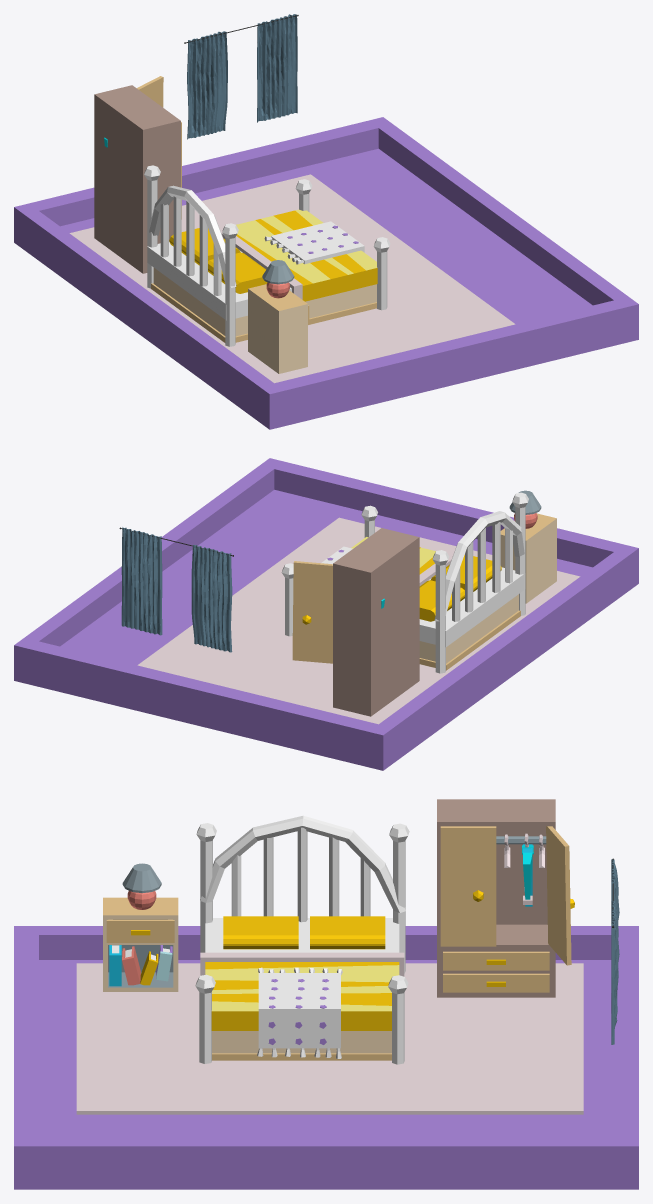
Rendered from bedroom.glb.
The picture shows the model from 3 angles, top to bottom: view 1: azimuth 30°, elevation 25°; view 2: azimuth 150°, elevation 25°; view 3: azimuth 270°, elevation 25°; orthographic projection. The views are drawn at different scales.
Visible parts, largest first — view 1: Cube, group579793175, group1099855414, node-0, group1746956383, group1792502002, group1974525828, group1779594578, group53819858, group29848447, group1026755034, group796940361 (+7 smaller); view 2: Cube, group579793175, group1099855414, node-0, group776681709, group1746956383, group1792502002, group53819858, group1974525828, group2076333141, group29848447, group1948111454 (+6 smaller); view 3: Cube, group579793175, group1099855414, group1746956383, group492854331, group1779594578, group1792502002, group53819858, group776681709, group1974525828, group796940361, group1948111454 (+18 smaller).
Part boxes in pixels (left/top/right/bottom): Cube: left=14, top=117, right=638, bottom=429; group579793175: left=69, top=174, right=515, bottom=383; group1099855414: left=94, top=85, right=180, bottom=273; node-0: left=184, top=14, right=298, bottom=139; group1746956383: left=147, top=209, right=377, bottom=320; group1792502002: left=248, top=284, right=307, bottom=373; group1974525828: left=153, top=267, right=376, bottom=336; group1779594578: left=271, top=221, right=364, bottom=264; group53819858: left=149, top=185, right=236, bottom=287; group29848447: left=222, top=223, right=238, bottom=346; group1026755034: left=151, top=283, right=376, bottom=342; group796940361: left=208, top=252, right=267, bottom=293; Cube: left=14, top=458, right=638, bottom=770; group579793175: left=137, top=517, right=580, bottom=724; group1099855414: left=333, top=528, right=419, bottom=716; node-0: left=119, top=527, right=233, bottom=652; group776681709: left=292, top=561, right=332, bottom=663; group1746956383: left=351, top=537, right=525, bottom=647; group1792502002: left=500, top=513, right=556, bottom=603; group53819858: left=434, top=511, right=524, bottom=621; group1974525828: left=419, top=594, right=518, bottom=663; group2076333141: left=432, top=550, right=449, bottom=673; group29848447: left=512, top=492, right=528, bottom=615; group1948111454: left=419, top=580, right=464, bottom=621; Cube: left=14, top=926, right=638, bottom=1189; group579793175: left=76, top=963, right=583, bottom=1114; group1099855414: left=437, top=799, right=555, bottom=997; group1746956383: left=205, top=918, right=399, bottom=1030; group492854331: left=440, top=826, right=496, bottom=946; group1779594578: left=258, top=973, right=340, bottom=1048; group1792502002: left=103, top=897, right=178, bottom=991; group53819858: left=200, top=815, right=405, bottom=912; group776681709: left=546, top=826, right=574, bottom=965; group1974525828: left=212, top=1031, right=391, bottom=1053; group796940361: left=223, top=916, right=298, bottom=949; group1948111454: left=310, top=916, right=385, bottom=949.
Bounding box in the file's own units: 5.43 × 2.39 × 6.52.
